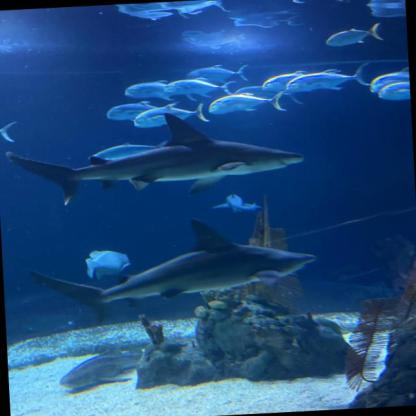fish: (57, 344, 148, 392), (286, 62, 372, 93), (133, 101, 210, 129), (208, 90, 290, 115), (166, 76, 237, 102), (85, 248, 133, 282), (185, 64, 252, 86), (87, 141, 155, 161), (326, 26, 384, 47), (125, 80, 175, 104), (262, 69, 308, 95), (368, 67, 410, 95), (107, 101, 159, 123), (378, 82, 410, 102), (0, 119, 18, 144)
shark: (26, 211, 320, 330), (5, 105, 307, 210), (210, 188, 261, 216)
